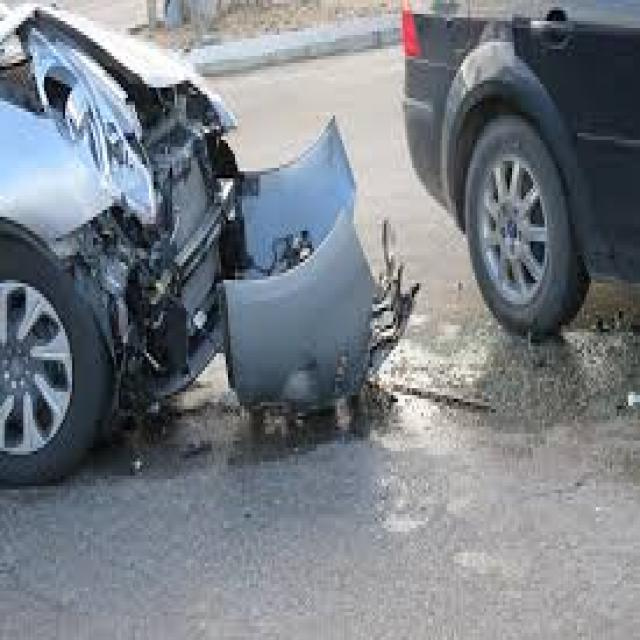severe: (1, 3, 421, 596)
